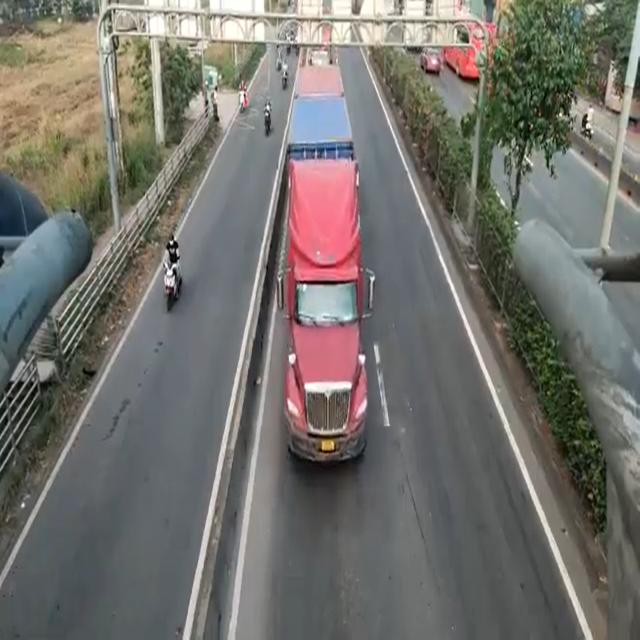motor: (166, 232, 179, 320), (287, 78, 288, 82)
truck: (283, 86, 369, 454)
